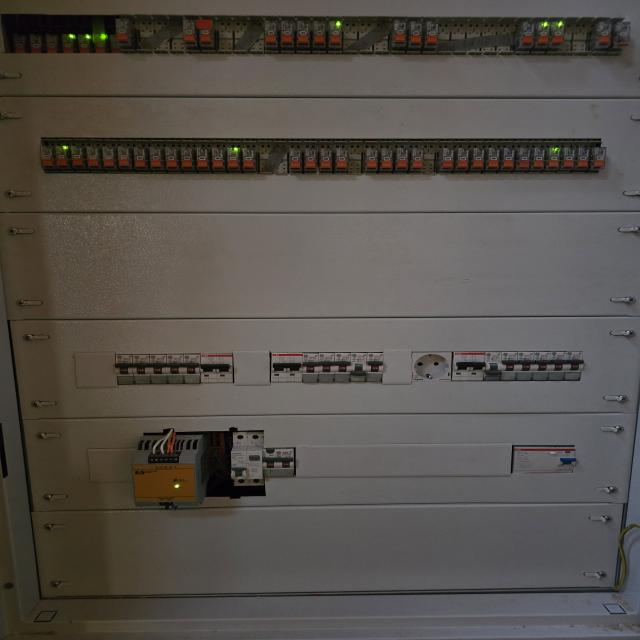FI: (513, 445, 577, 475)
FI_Sicherungskombi: (232, 433, 263, 485)
Leitungsschutzschalter: (200, 354, 233, 384), (271, 352, 303, 382), (452, 352, 485, 380), (115, 355, 135, 384), (167, 354, 184, 384), (183, 354, 200, 384), (150, 355, 167, 384), (134, 354, 150, 384), (486, 352, 502, 382), (278, 448, 294, 477), (534, 352, 550, 381), (550, 352, 566, 381), (263, 448, 278, 477), (303, 353, 318, 382), (335, 353, 350, 382), (567, 352, 582, 381), (352, 352, 366, 383), (319, 353, 334, 381), (368, 352, 382, 382), (502, 352, 517, 380), (519, 352, 533, 382)
Relais: (116, 17, 134, 47), (197, 19, 215, 48), (593, 23, 611, 51), (518, 22, 534, 50), (437, 146, 454, 172), (333, 145, 348, 174), (288, 145, 304, 172), (183, 19, 197, 49), (297, 20, 311, 50), (536, 20, 550, 50), (615, 22, 630, 50), (147, 145, 163, 171), (225, 145, 241, 171), (303, 145, 319, 171), (312, 20, 326, 49), (281, 21, 295, 49), (242, 145, 256, 173), (329, 20, 342, 50), (392, 21, 407, 47), (552, 20, 565, 50), (180, 144, 195, 170), (469, 146, 484, 172), (486, 145, 501, 171), (425, 22, 439, 49), (364, 147, 378, 174), (576, 146, 590, 173), (86, 144, 100, 170), (102, 144, 116, 170), (166, 145, 180, 171), (396, 146, 410, 172), (546, 146, 560, 172), (212, 144, 225, 171), (381, 146, 394, 173), (117, 144, 131, 169), (196, 145, 210, 170), (409, 22, 422, 48), (320, 146, 333, 172), (411, 146, 424, 172), (502, 145, 515, 171), (266, 21, 278, 49), (40, 144, 54, 168), (54, 145, 68, 169), (70, 144, 84, 168), (456, 146, 468, 174), (516, 146, 530, 170), (592, 146, 606, 170), (133, 146, 146, 170), (532, 145, 544, 171), (563, 146, 576, 170), (46, 33, 60, 54), (12, 33, 26, 53), (63, 33, 76, 53), (30, 33, 42, 54), (94, 34, 106, 54), (79, 34, 91, 52), (109, 35, 120, 53)
